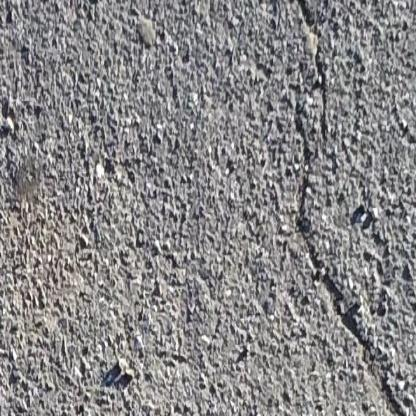Cracks: (287, 130, 404, 416), (296, 0, 342, 153)
